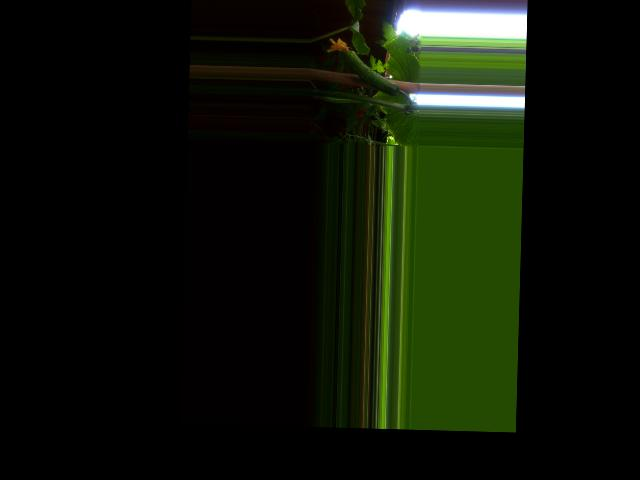cucumber: (325, 36, 400, 95)
